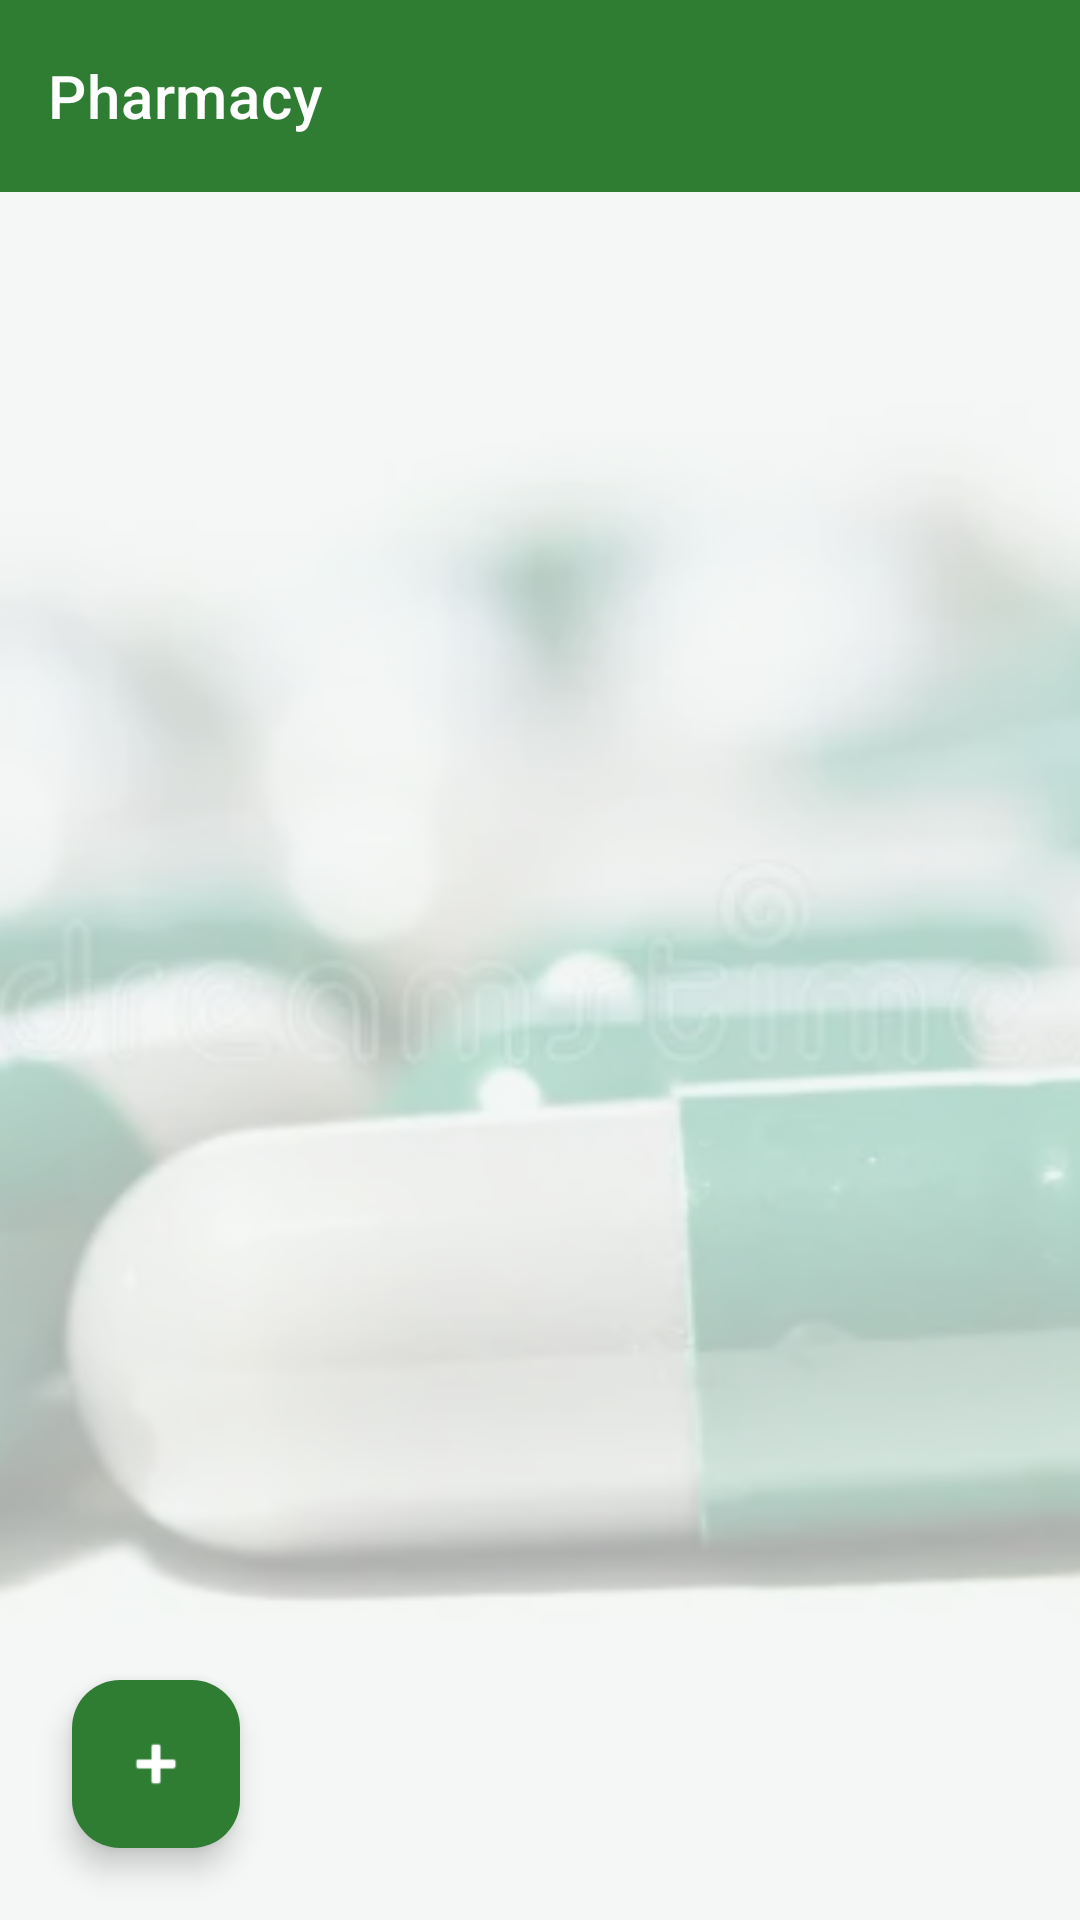

Locate icon controls on the screen. Image size 1080 x 1920, boxes as (x1, y1, x2, y2).
Add Company: (72, 1680, 240, 1848)
